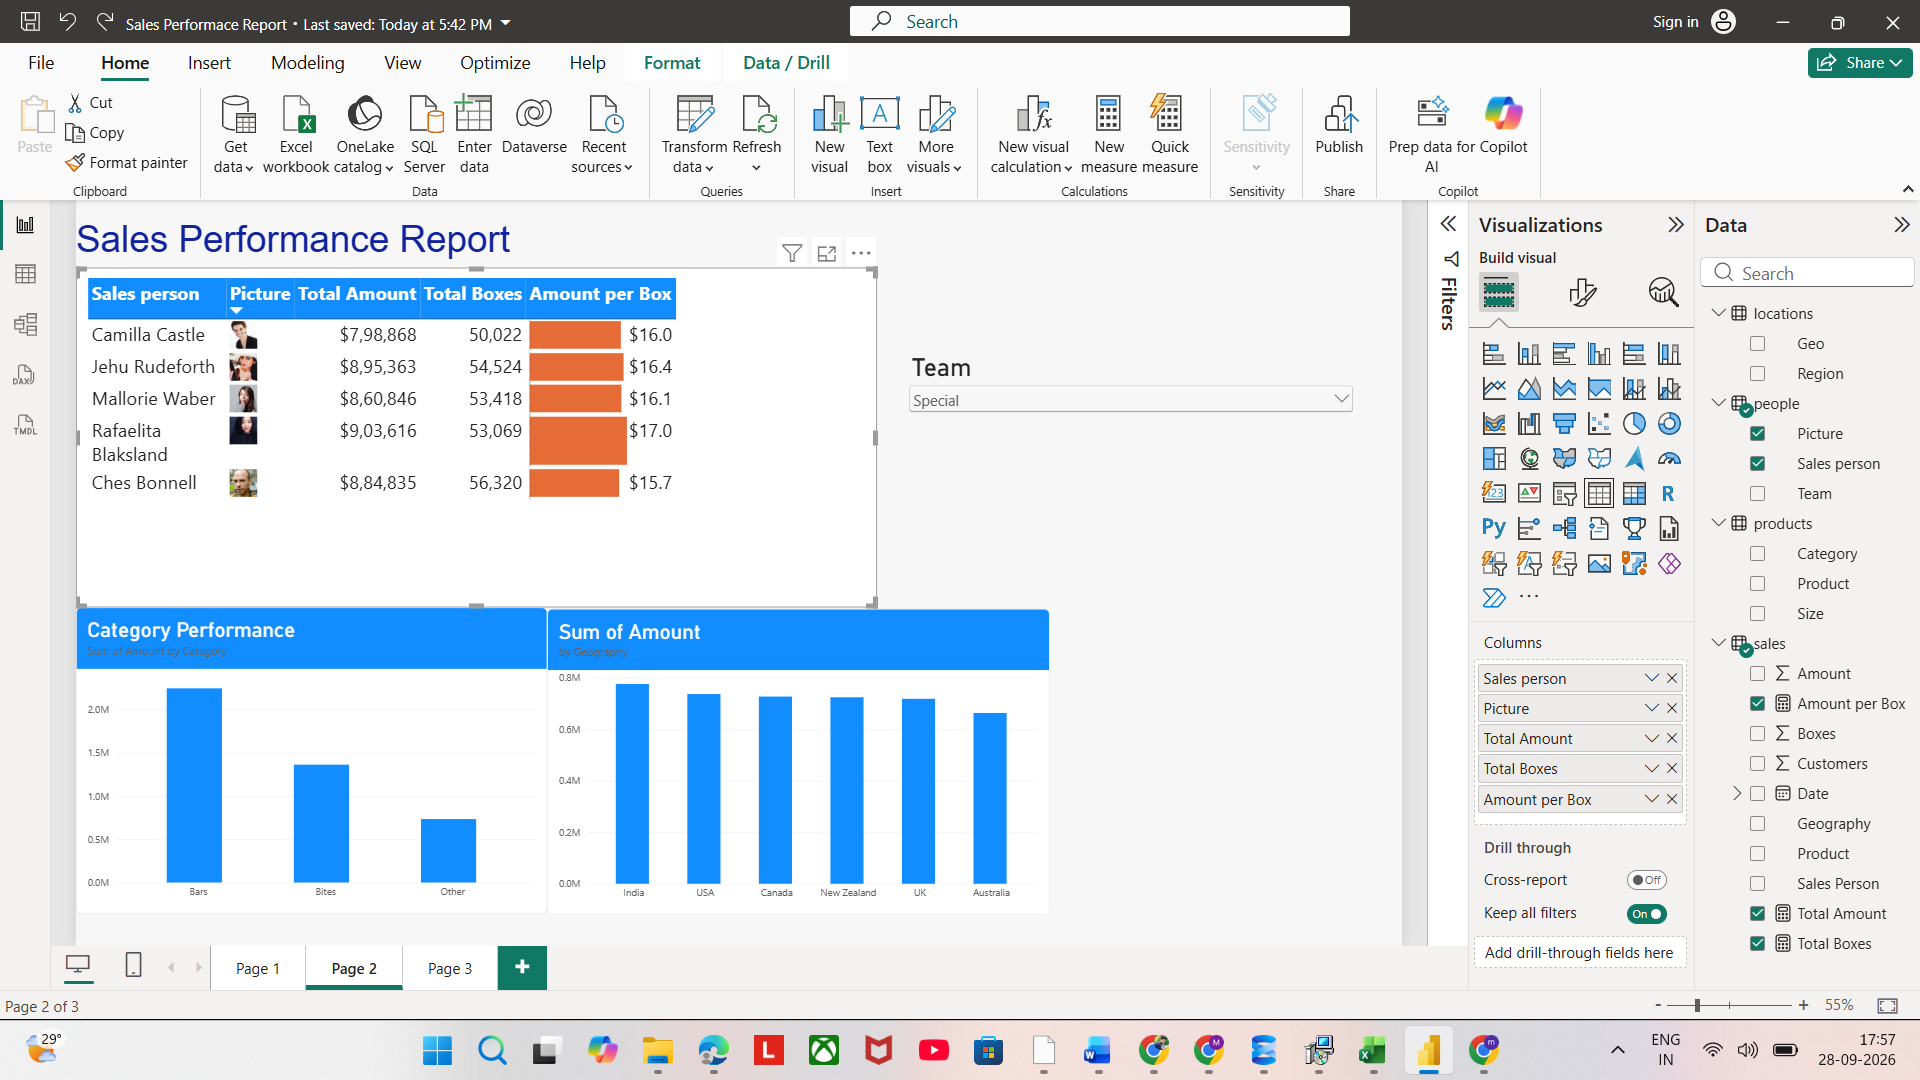

The dashboard page shown, as its layout file describes it:
{"tool":"powerbi","page":{"name":"Page 2","canvas":[1920,1080],"ordinal":1},"visuals":[{"type":"tableEx","fields":{"Values":["people.Sales person","people.Picture","sales.Total Amount","sales.Total Boxes","sales.Amount per Box"]},"box":[0,97.7,1160,492.2],"z":0},{"type":"slicer","fields":{"Values":["people.Team"]},"box":[1201.6,220.8,652.5,240.8],"z":1000},{"type":"columnChart","title":"Category Performance","fields":{"Category":["products.Category"],"Y":["Sum(sales.Amount)"]},"box":[0,589.9,682.2,443.4],"z":2000},{"type":"columnChart","fields":{"Category":["sales.Geography"],"Y":["Sum(sales.Amount)"]},"box":[682.2,591.8,727.5,443.4],"z":2001},{"type":"textbox","box":[0,27.1,1835,193.6],"z":2002}]}

Visuals, with their boxes on the page's 1920x1080 design canvas (x1, y1, x2, y2). These are canvas units, not pixel positions in the 1920x1080 screenshot, which may show the page scaled, cropped or inside an application window:
tableEx - people.Sales person x people.Picture: [left=0, top=98, right=1160, bottom=590]
slicer - people.Team: [left=1202, top=221, right=1854, bottom=462]
"Category Performance" columnChart: [left=0, top=590, right=682, bottom=1033]
columnChart - sales.Geography x Sum(sales.Amount): [left=682, top=592, right=1410, bottom=1035]
textbox: [left=0, top=27, right=1835, bottom=221]
